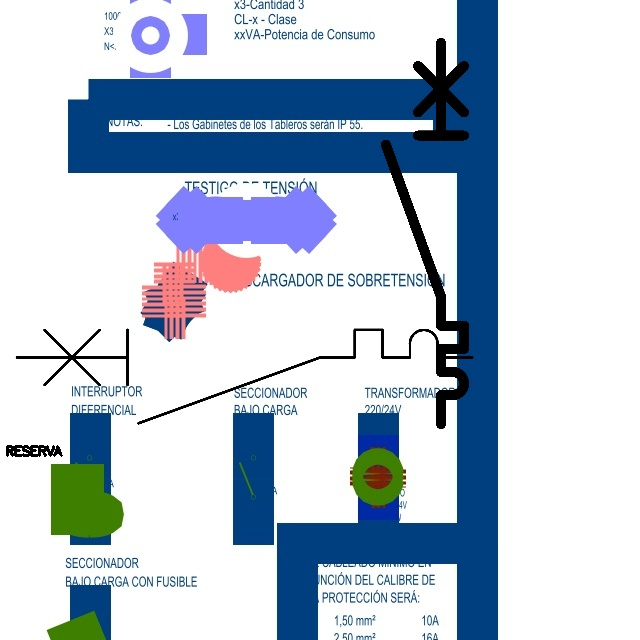interruptor_termomagnetico: (5, 318, 484, 435), (376, 33, 474, 434)
